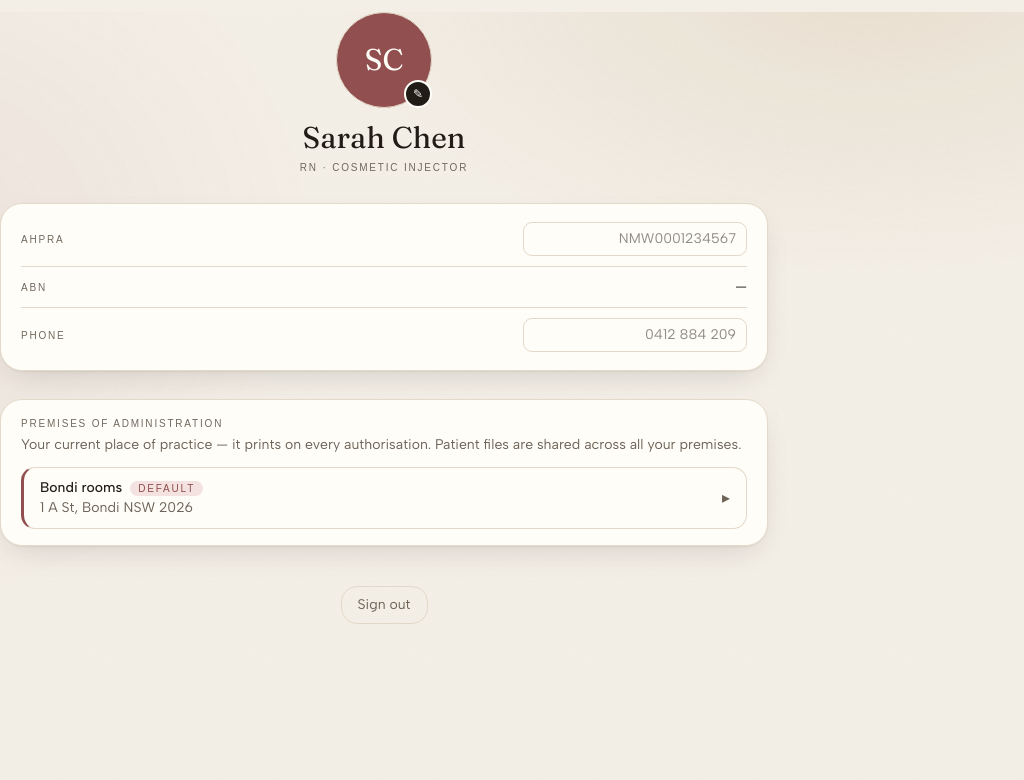
Test: Profile — changing which premise is the default › offers 'Set as default' on a premise that is not the default
The image size is (1024, 780).
Step 1. Click the button "Bondi rooms" → (81,488), box x1=21 y1=467 x2=747 y2=529
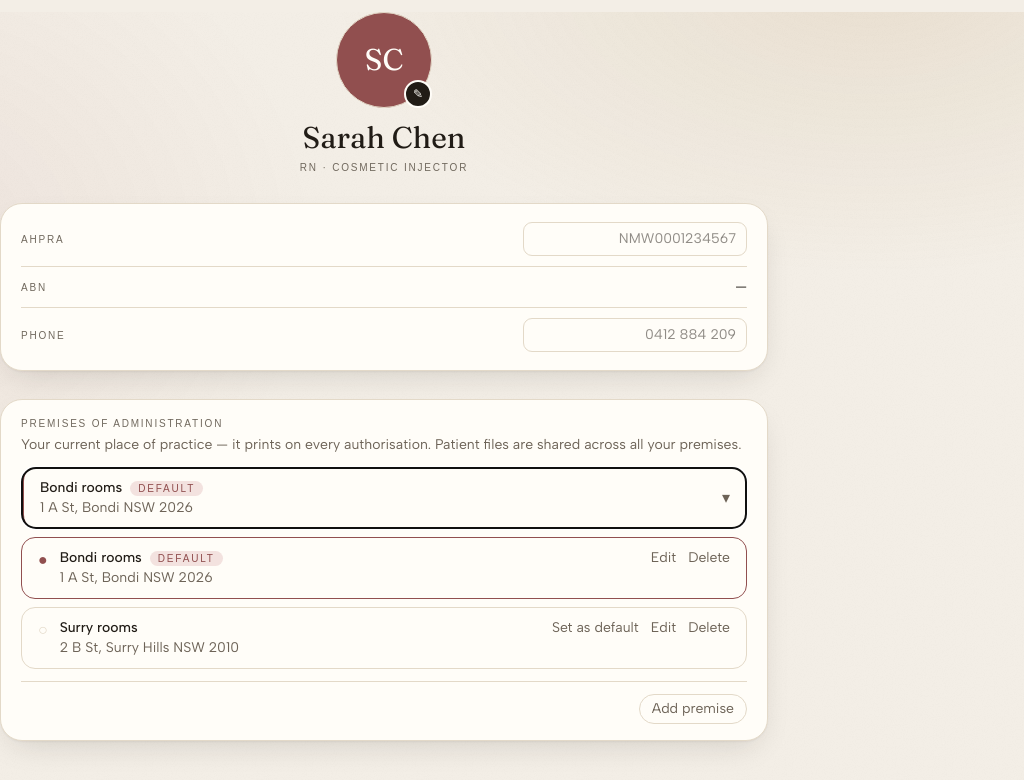
Expected: the list item that starts with "Surry rooms" shows "Set as default", x1=552 y1=618 x2=639 y2=638
